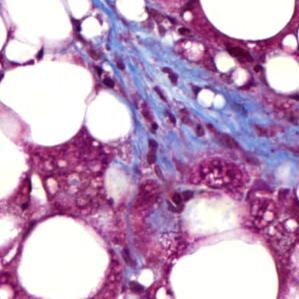steatosis: (85, 93, 138, 148)
